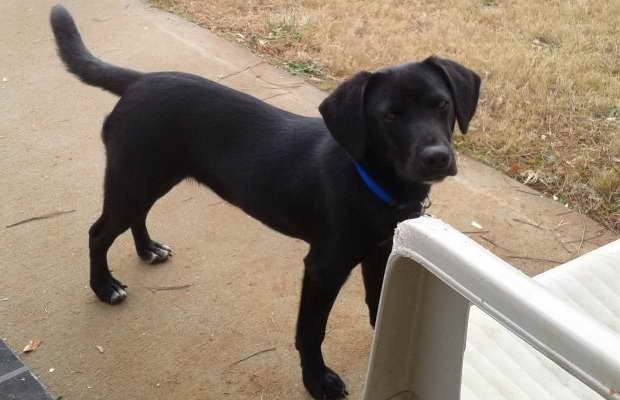dog: (39, 9, 479, 400)
